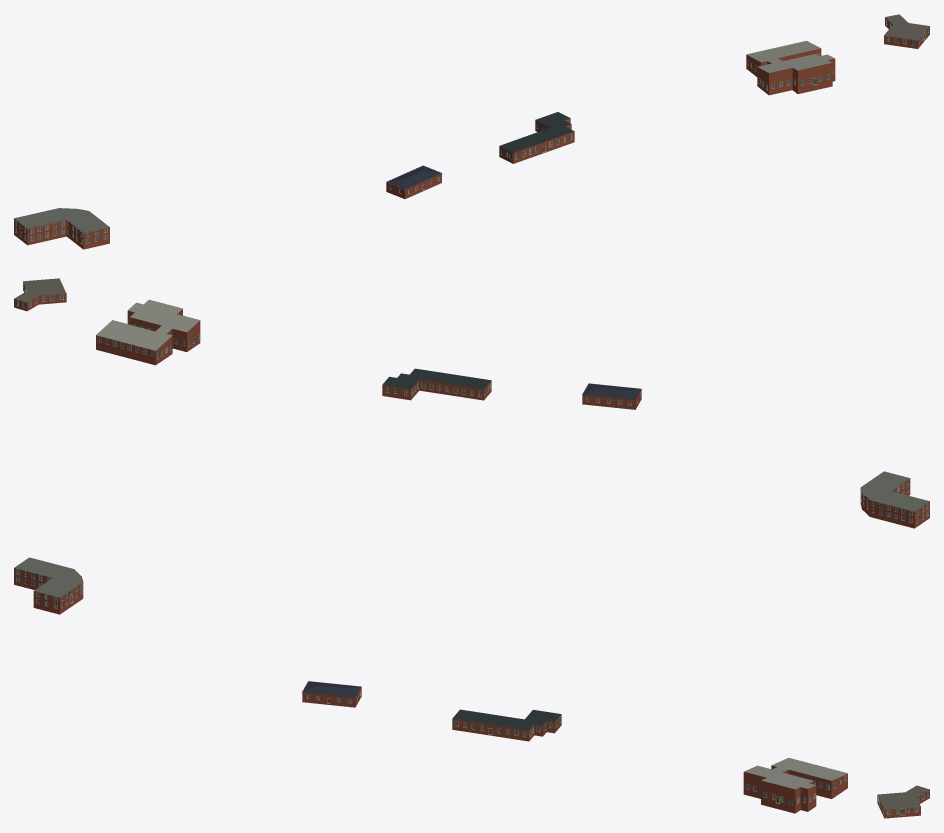
The picture shows the model from 3 angles, top to bottom: view 1: azimuth 30°, elevation 25°; view 2: azimuth 150°, elevation 25°; view 3: azimuth 330°, elevation 25°; orthographic projection. The views are drawn at different scales.
Visible parts, largest first — view 1: -4_-2_623907358_1; view 2: -4_-2_623907358_1; view 3: -4_-2_623907358_1.
Boxes of the visible parts, x1=… form: -4_-2_623907358_1: x1=14, y1=14, x2=929, y2=249; -4_-2_623907358_1: x1=14, y1=278, x2=929, y2=528; -4_-2_623907358_1: x1=14, y1=557, x2=929, y2=818.
Bounding box in the file's own units: 459 × 16.44 × 59.8.
